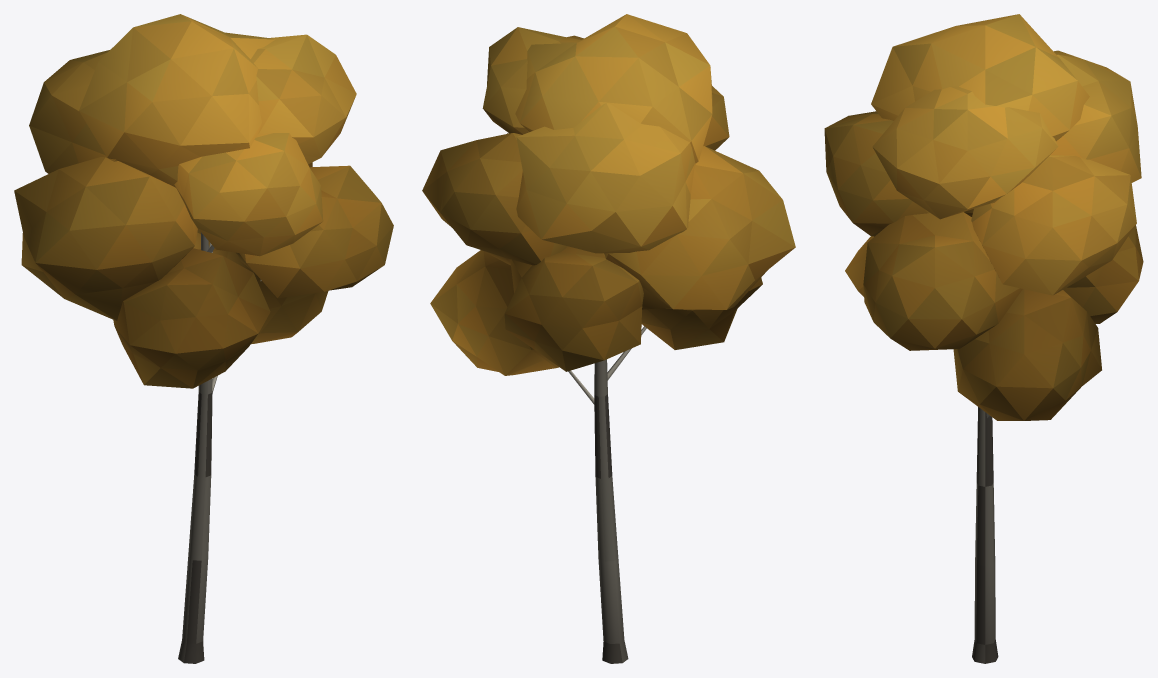
The model's file is aspen_gold.glb.
3 renders of one model, left to right at view 1: azimuth 30°, elevation 25°; view 2: azimuth 150°, elevation 25°; view 3: azimuth 270°, elevation 25°, orthographic.
Parts seen in each view (by area): view 1: aspen_gold; view 2: aspen_gold; view 3: aspen_gold.
Part boxes in pixels (<box>): aspen_gold: <box>14,14,393,663</box>; aspen_gold: <box>422,14,795,663</box>; aspen_gold: <box>824,14,1143,663</box>.
Size of the model in its own units: 5.63 by 10.28 by 4.7.
